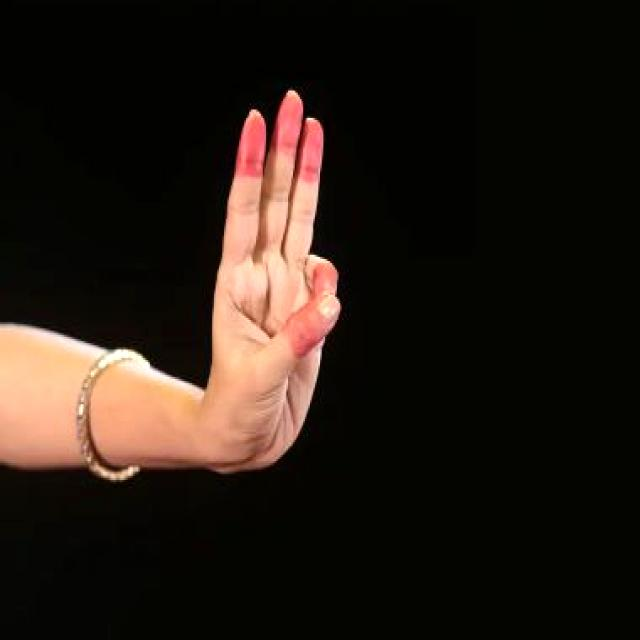Trishula: (190, 67, 374, 489)
